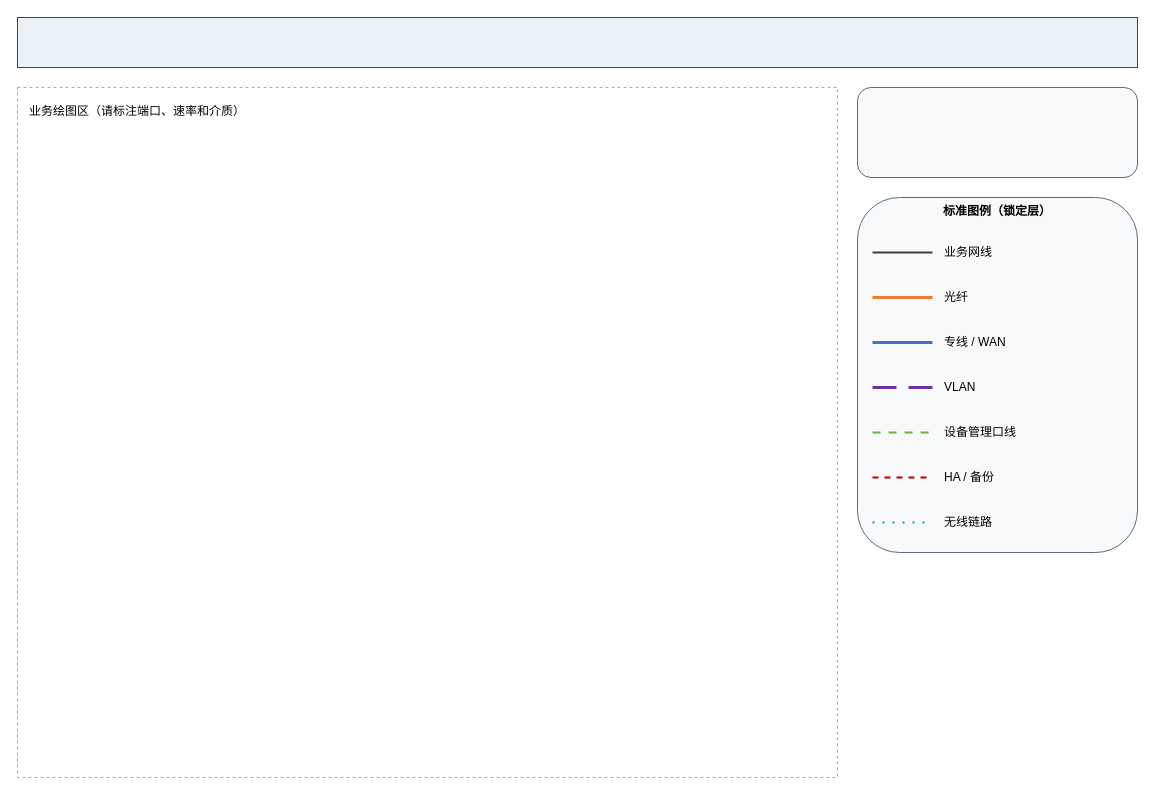
The diagram is 1155 pixels wide and 795 high, and some of its shapes have lost their labels. Here are the shapes that lost their labels. From the top down, the centre of each, then its label:
pixel 577 42: 网络拓扑图｜客户：____｜机房：____｜版本：V1｜日期：____
pixel 997 132: 常用图形：互联网 路由器 防火墙 交换机 服务器 AP 终端 ODF 机柜
